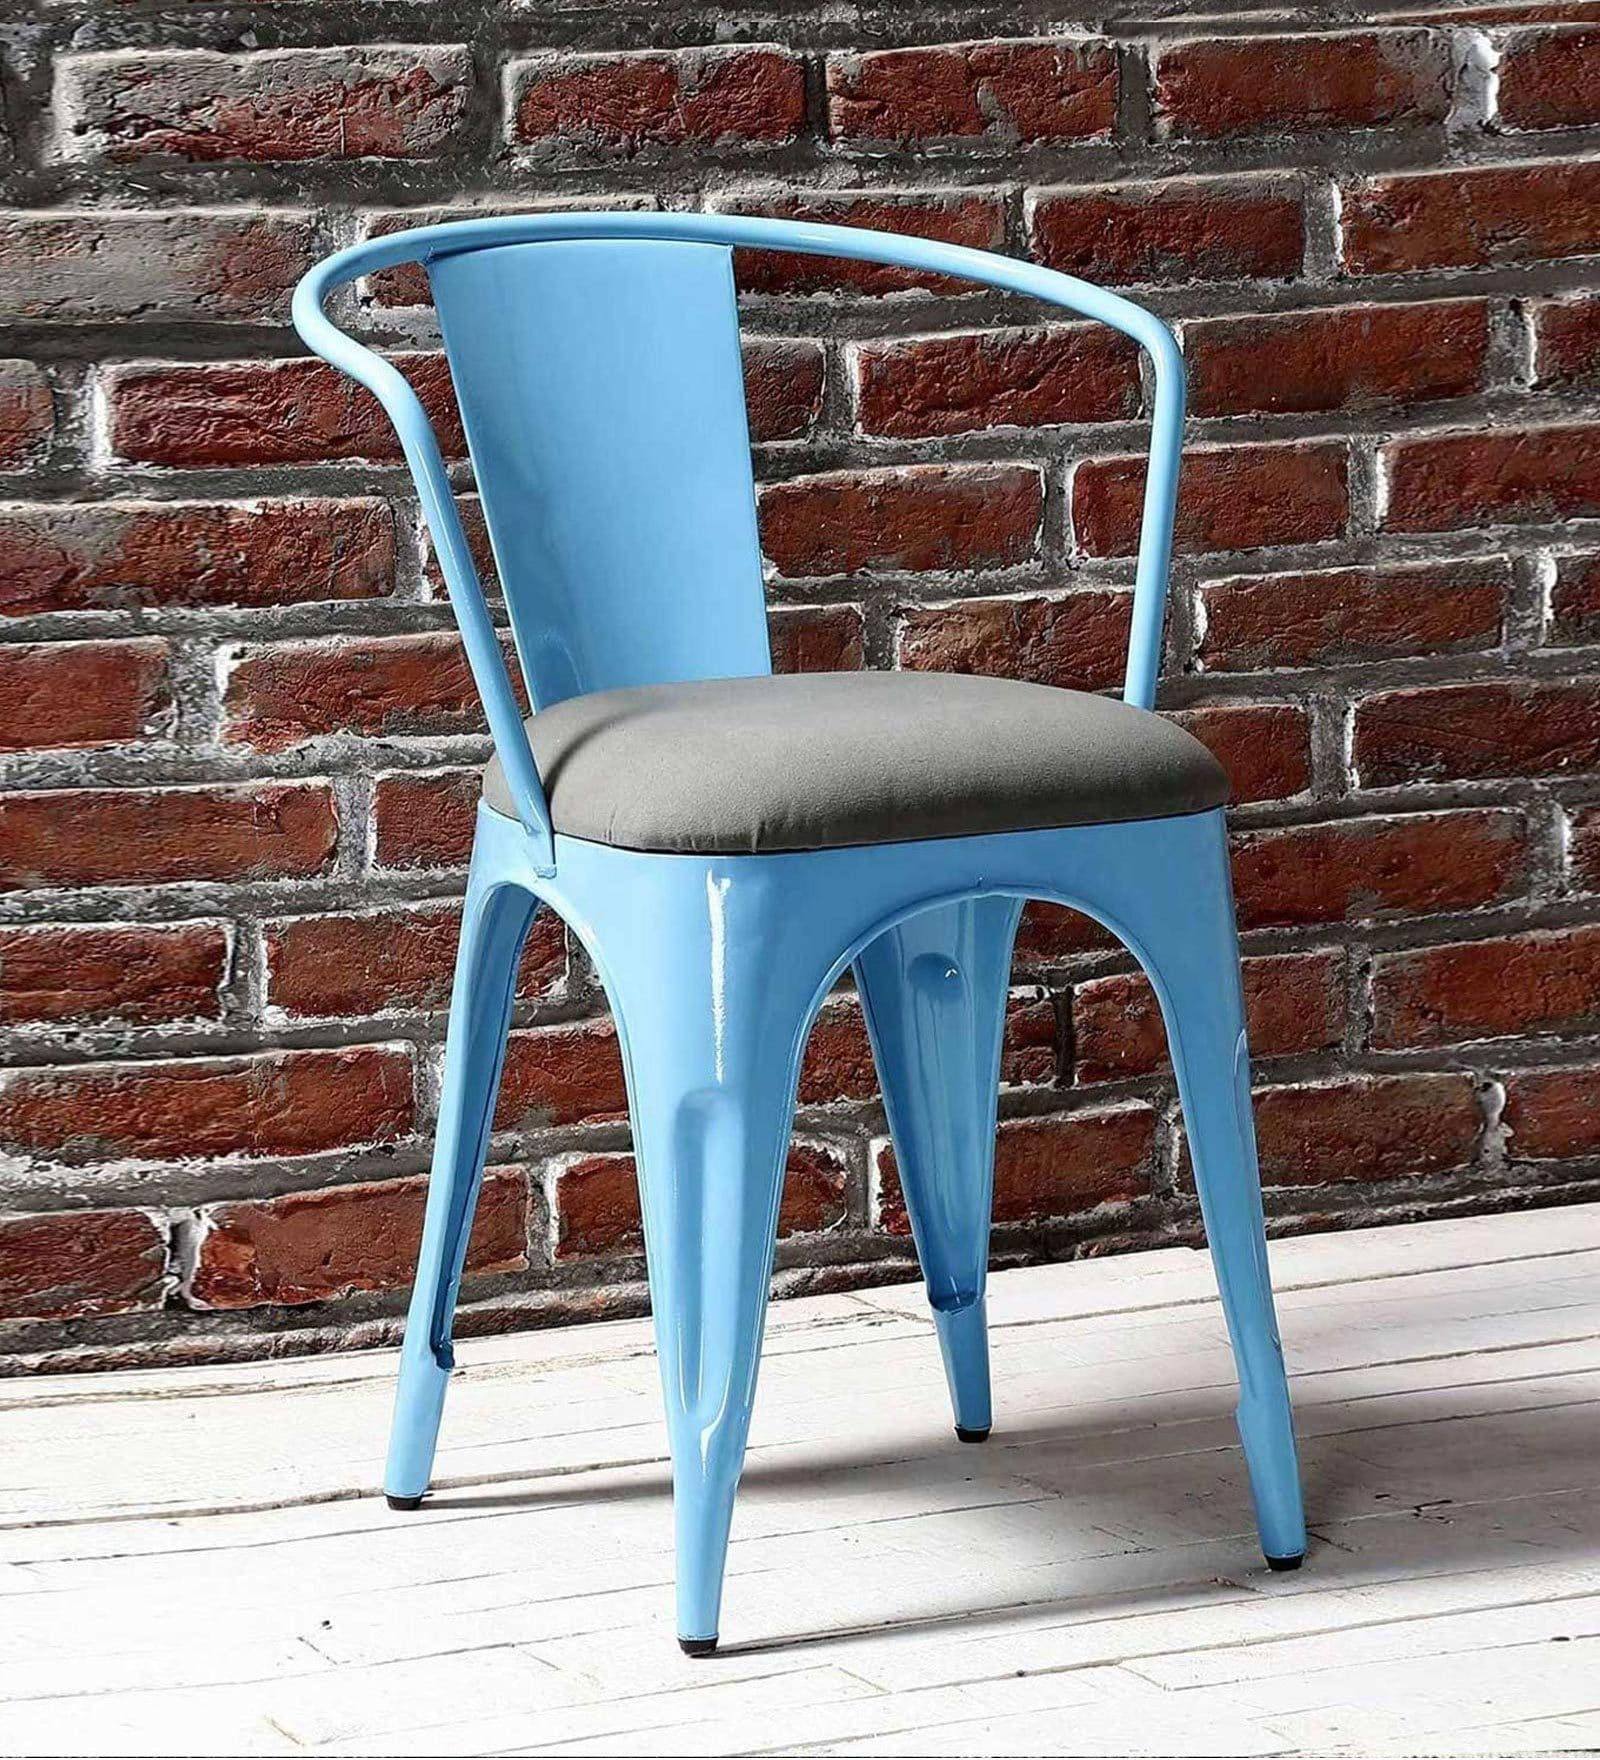Danlou Metal Chair with Cushion in Blue Colour by Bohemiana: (205, 143, 1346, 1650)
